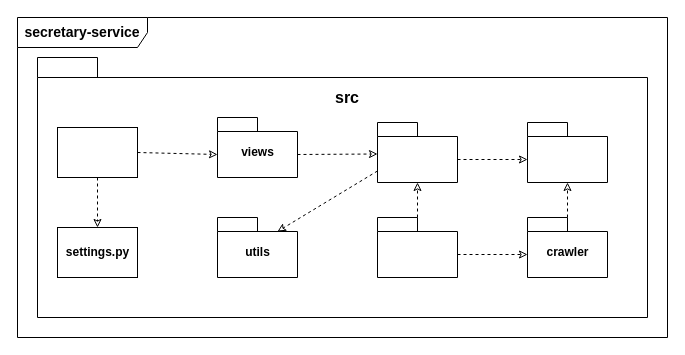
Some shapes in this 685 by 355 pixel diagram are drawn without their labels. The box of each missing label's shape, as (x1, y1, x2, y2) in pixels:
controllers: (376, 122, 458, 182)
database: (526, 122, 608, 182)
main.py: (56, 126, 138, 178)
tests: (376, 216, 458, 278)
